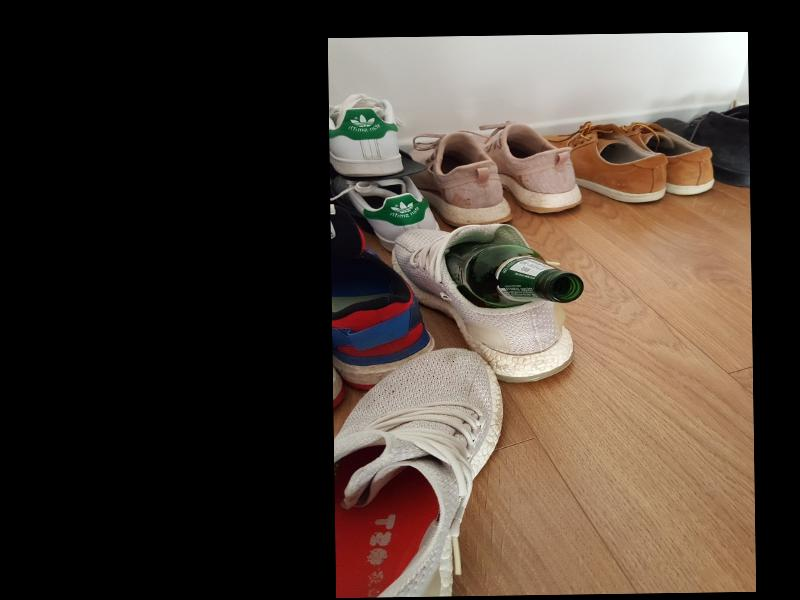Beer: (446, 239, 584, 305)
